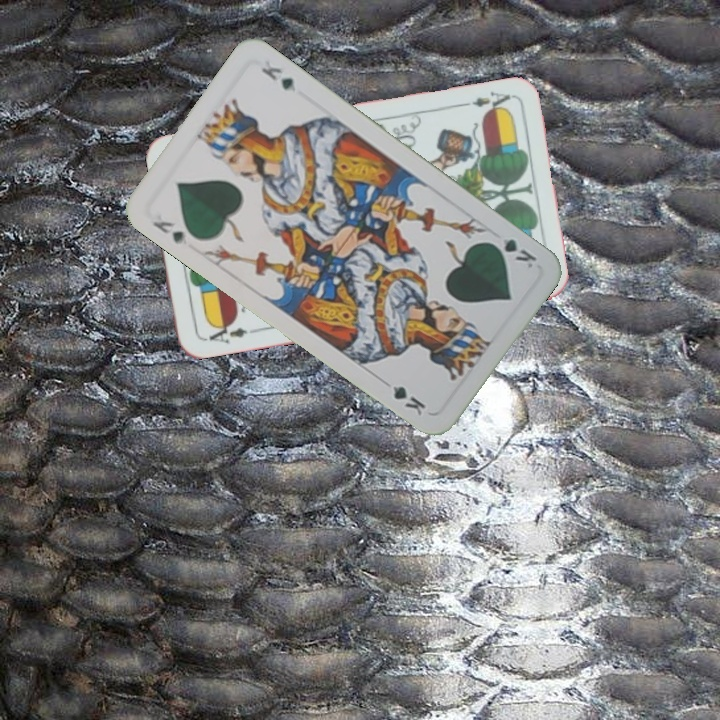EA: (455, 87, 513, 116), (200, 318, 250, 346)
GK: (484, 234, 540, 271), (148, 216, 192, 247)
